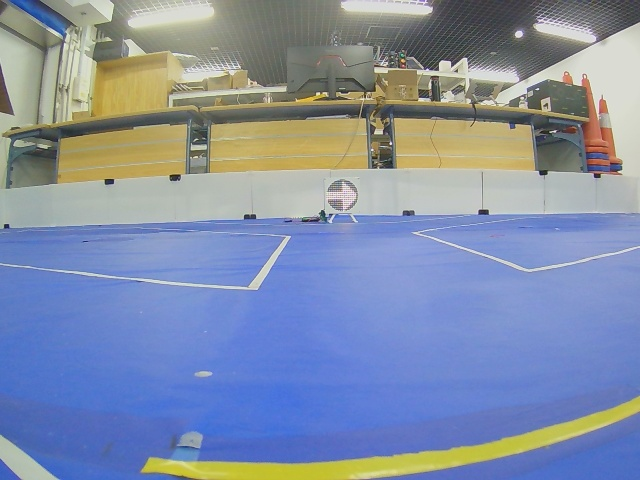right_yellow: (326, 179, 359, 213)
